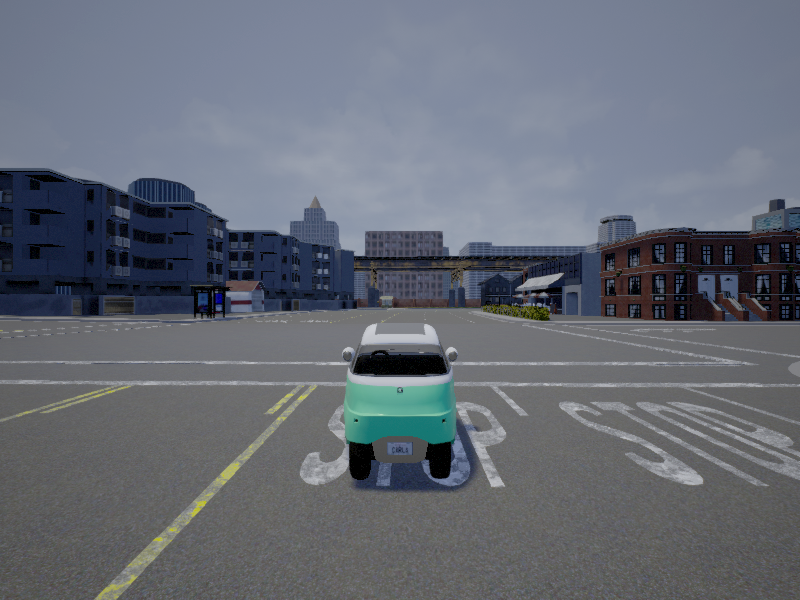Benign: (343, 322, 461, 478)
